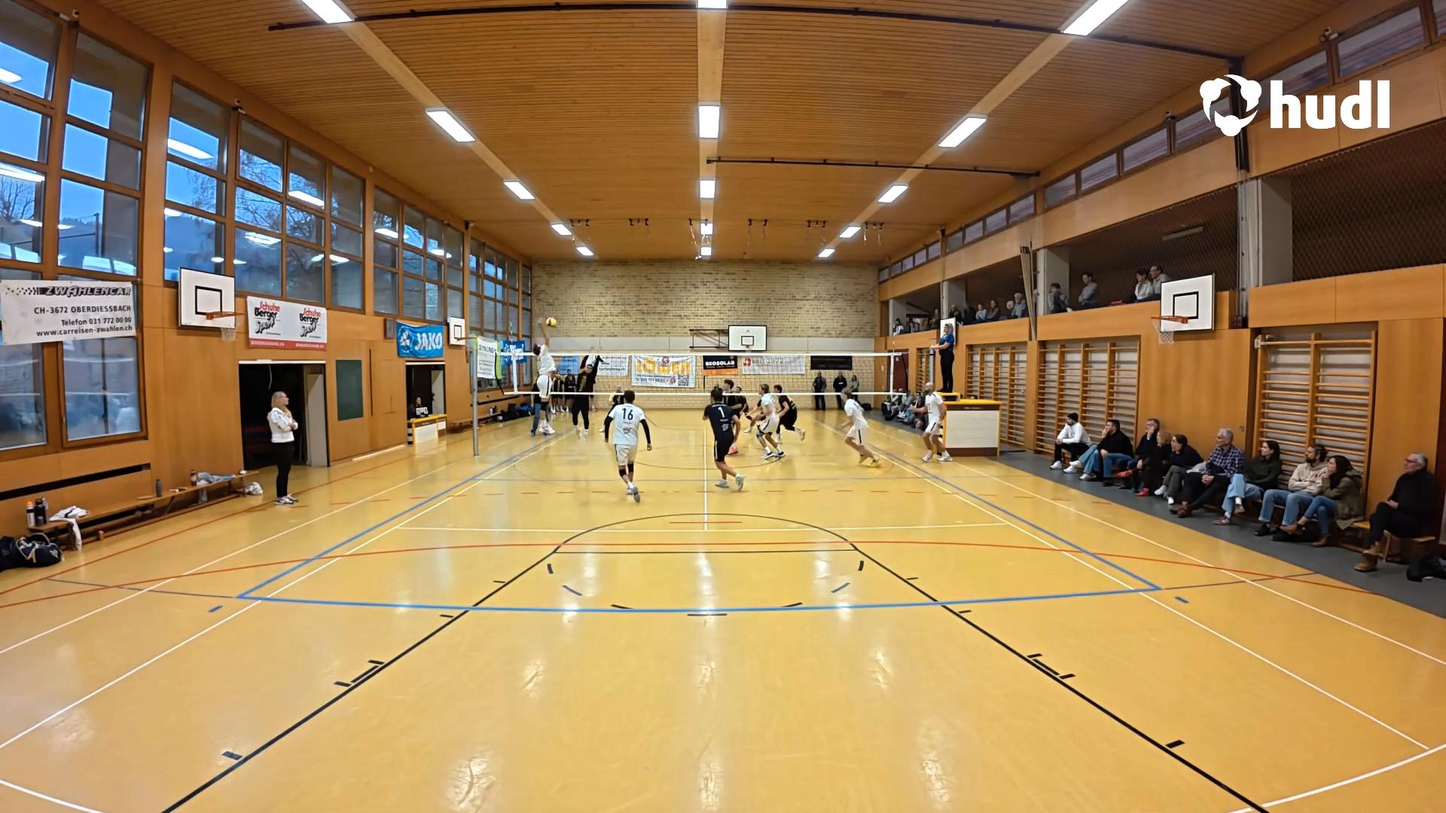attacco: (525, 306, 559, 438)
muro: (570, 341, 601, 444)
